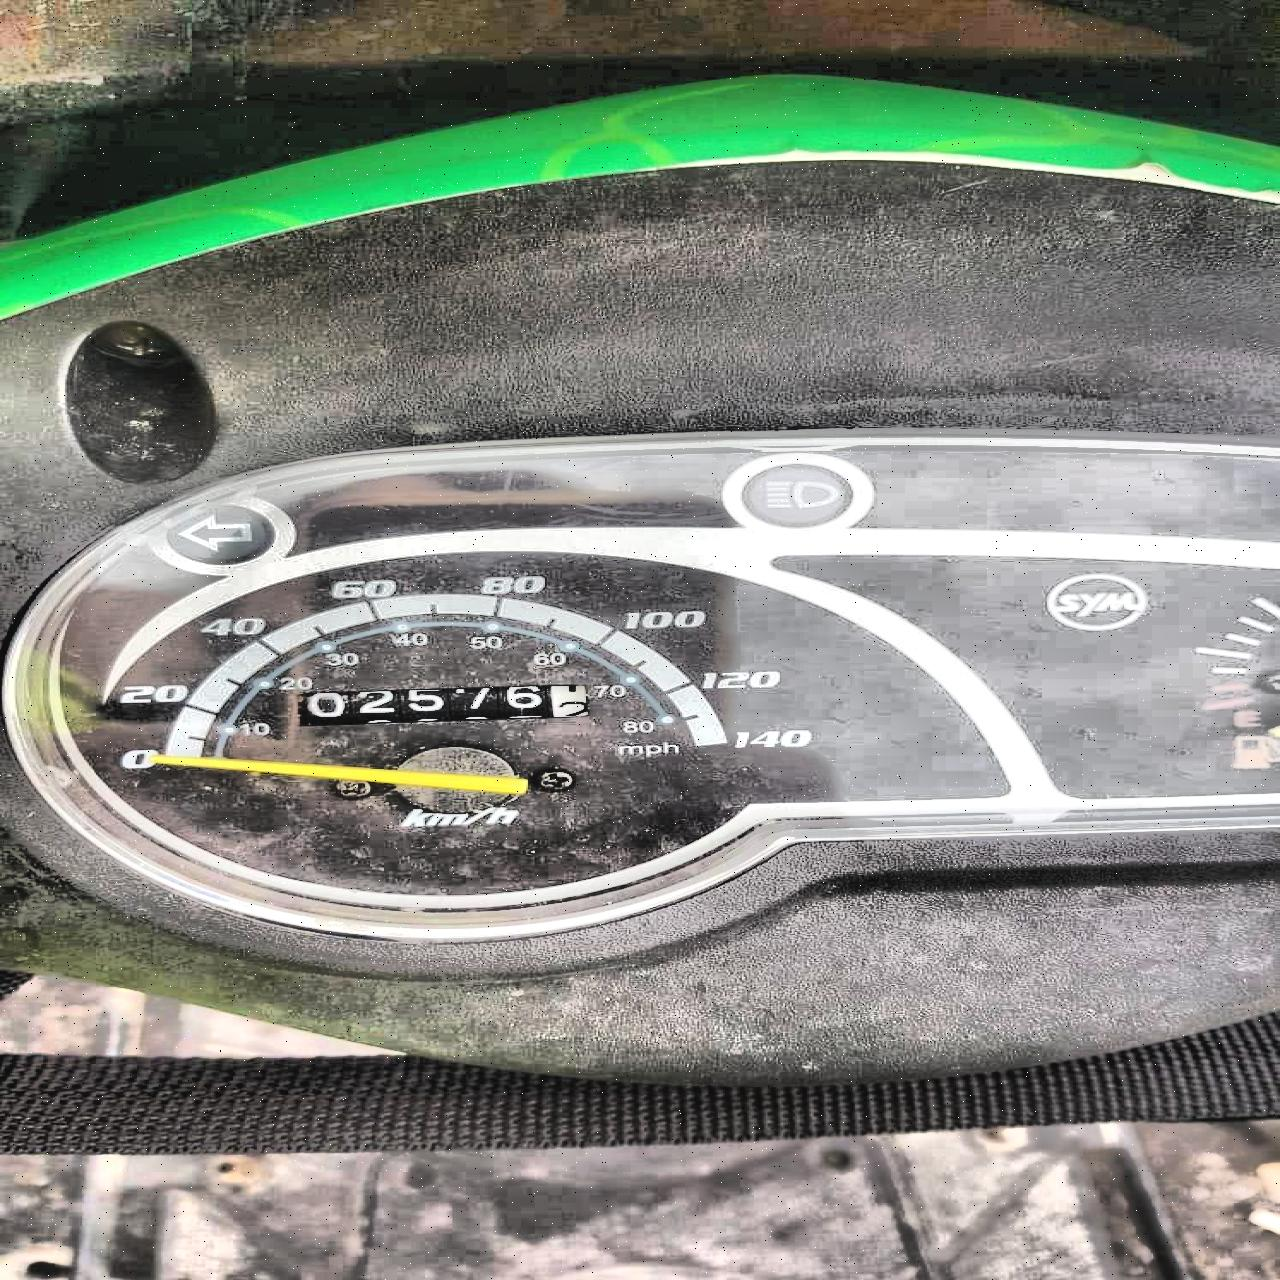0: (307, 689, 346, 719)
2: (354, 686, 397, 715), (554, 697, 591, 720)
5: (408, 687, 449, 710)
6: (505, 685, 543, 709)
7: (452, 685, 492, 709)
odometer: (293, 683, 593, 723)
